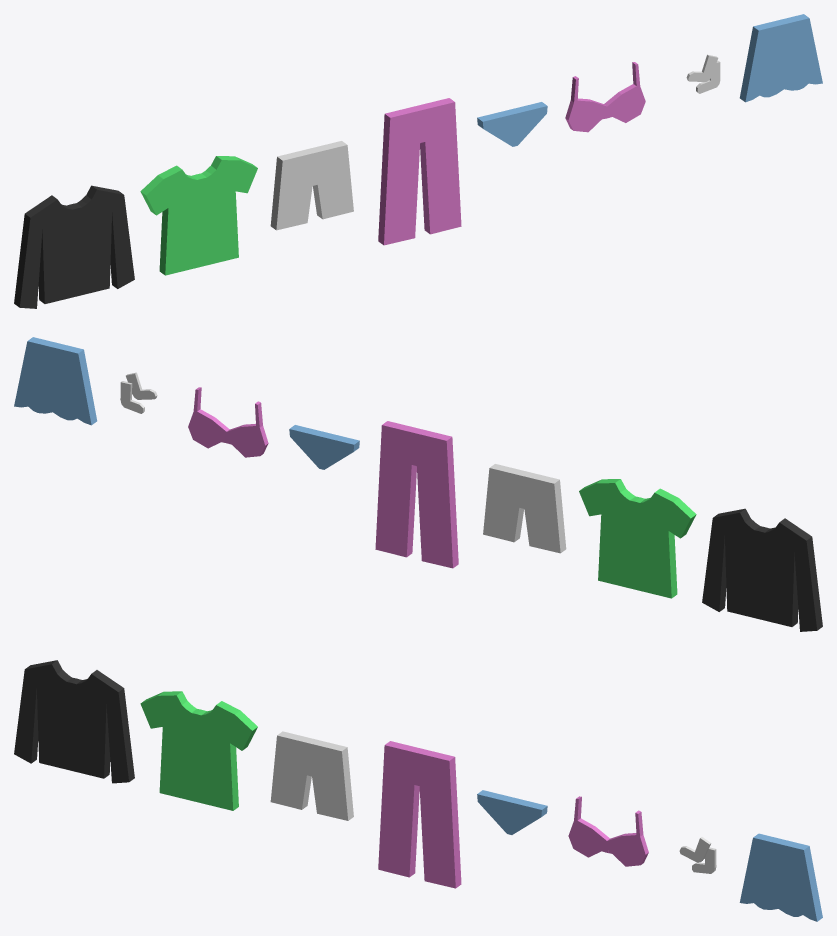
File: Items_Clothes.fbx
3 renders of one model, top to bottom at view 1: azimuth 30°, elevation 25°; view 2: azimuth 150°, elevation 25°; view 3: azimuth 330°, elevation 25°, orthographic.
Visible parts, largest first — view 1: Item_Clothes_1, Item_Clothes_4, Item_Clothes_2, Item_Clothes_3, Item_Clothes_8, Item_Clothes_6, Item_Clothes_5; view 2: Item_Clothes_1, Item_Clothes_4, Item_Clothes_2, Item_Clothes_3, Item_Clothes_8, Item_Clothes_6, Item_Clothes_5; view 3: Item_Clothes_1, Item_Clothes_4, Item_Clothes_2, Item_Clothes_3, Item_Clothes_8, Item_Clothes_6, Item_Clothes_5.
Part boxes in pixels (x1,y1,x2,y2): Item_Clothes_1: (14,185,134,308); Item_Clothes_4: (378,98,461,245); Item_Clothes_2: (140,156,257,275); Item_Clothes_3: (270,141,353,230); Item_Clothes_8: (739,14,822,102); Item_Clothes_6: (565,62,645,132); Item_Clothes_5: (477,102,547,146); Item_Clothes_1: (702,508,822,631); Item_Clothes_4: (375,421,458,568); Item_Clothes_2: (579,479,696,598); Item_Clothes_3: (483,464,566,553); Item_Clothes_8: (14,337,97,425); Item_Clothes_6: (188,387,268,457); Item_Clothes_5: (289,425,359,469); Item_Clothes_1: (14,660,134,783); Item_Clothes_4: (378,741,461,888); Item_Clothes_2: (140,691,257,810); Item_Clothes_3: (270,731,353,820); Item_Clothes_8: (739,833,822,921); Item_Clothes_6: (568,796,648,866); Item_Clothes_5: (477,790,547,834).
Size of the model in its own units: 743 by 112 by 12.29.
